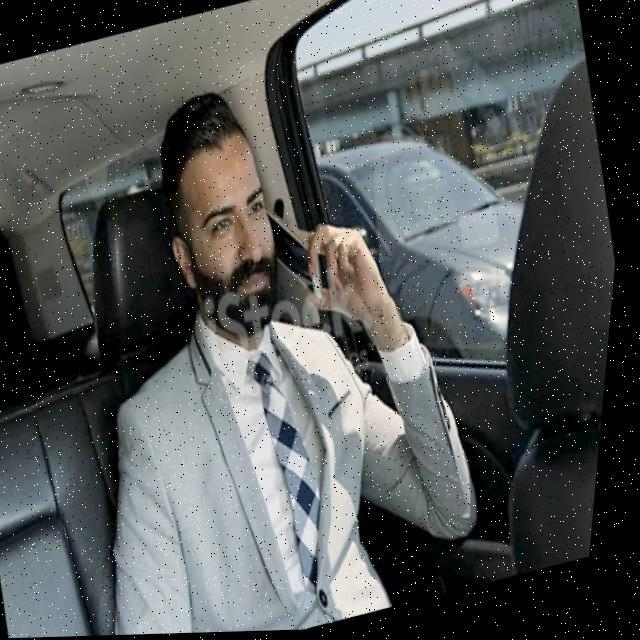PhoneCall: (259, 193, 337, 314)
